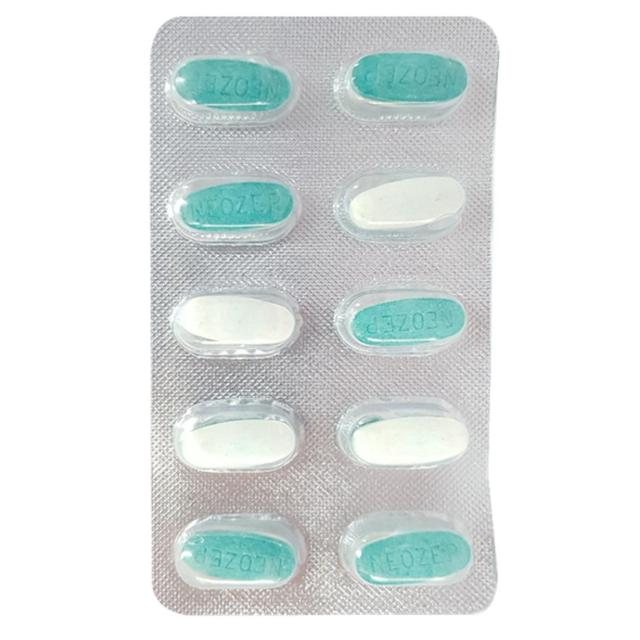blister: (140, 9, 509, 622)
